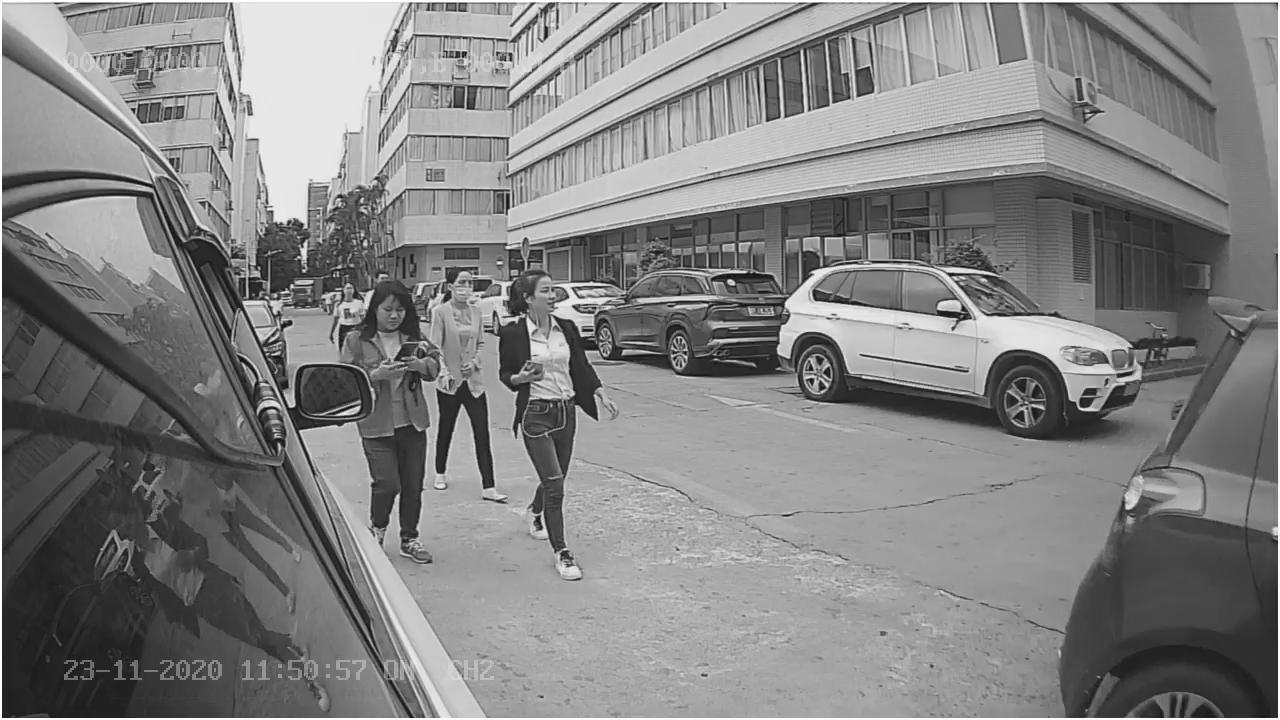person: (500, 269, 621, 580)
